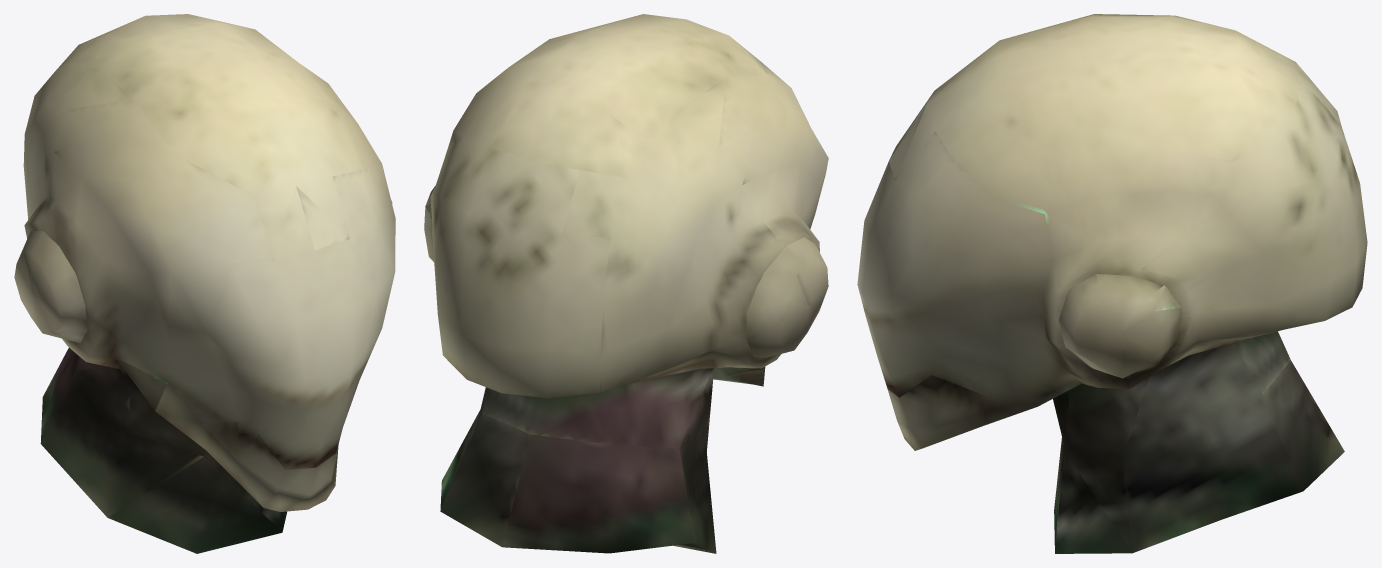
File: head-sentinel.glb
3 views of the same model, side by side, from view 1: azimuth 30°, elevation 25°; view 2: azimuth 150°, elevation 25°; view 3: azimuth 270°, elevation 25° (orthographic). The views are drawn at different scales.
Visible parts, largest first — view 1: head-sentinel; view 2: head-sentinel; view 3: head-sentinel.
Boxes of the visible parts, left/top/right/bottom form: head-sentinel: left=14, top=14, right=395, bottom=553; head-sentinel: left=424, top=14, right=828, bottom=553; head-sentinel: left=857, top=14, right=1367, bottom=553.
Bounding box in the file's own units: 0.3232 × 0.4258 × 0.3965.
1 material, 1 textured.
